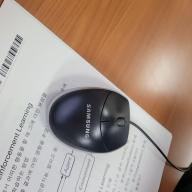mouse: (39, 73, 140, 156), (38, 74, 140, 156), (39, 72, 135, 152)
